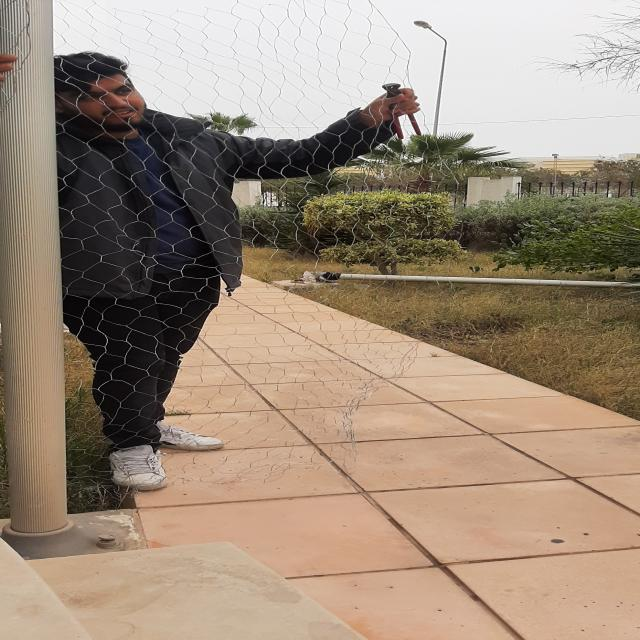fence line: (416, 52, 605, 448), (336, 388, 397, 448)
